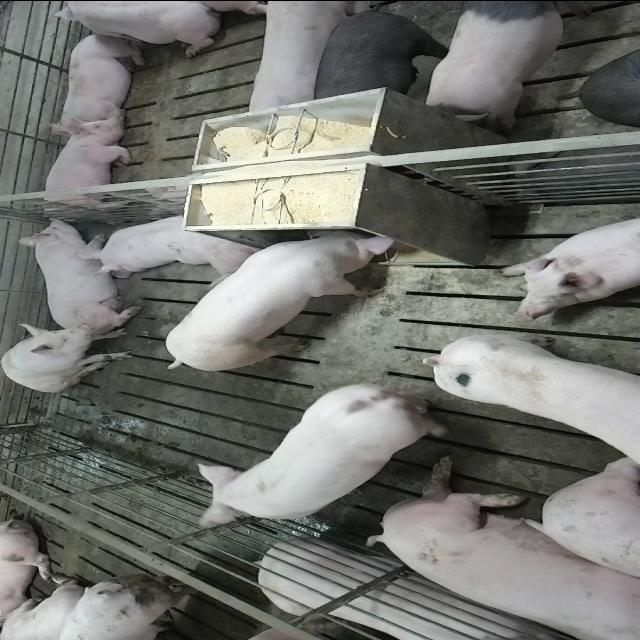Feeding: (163, 220, 401, 368)
Lateral_lying: (366, 457, 640, 638), (251, 538, 577, 640)
Sitting: (2, 321, 137, 392)
Standing: (195, 386, 477, 526), (426, 325, 640, 493), (415, 2, 580, 122), (240, 2, 378, 122), (306, 6, 446, 100)
Sternal_lying: (10, 212, 140, 326), (503, 208, 640, 312), (80, 210, 258, 274), (39, 2, 230, 56), (52, 31, 148, 130), (36, 121, 134, 215)
